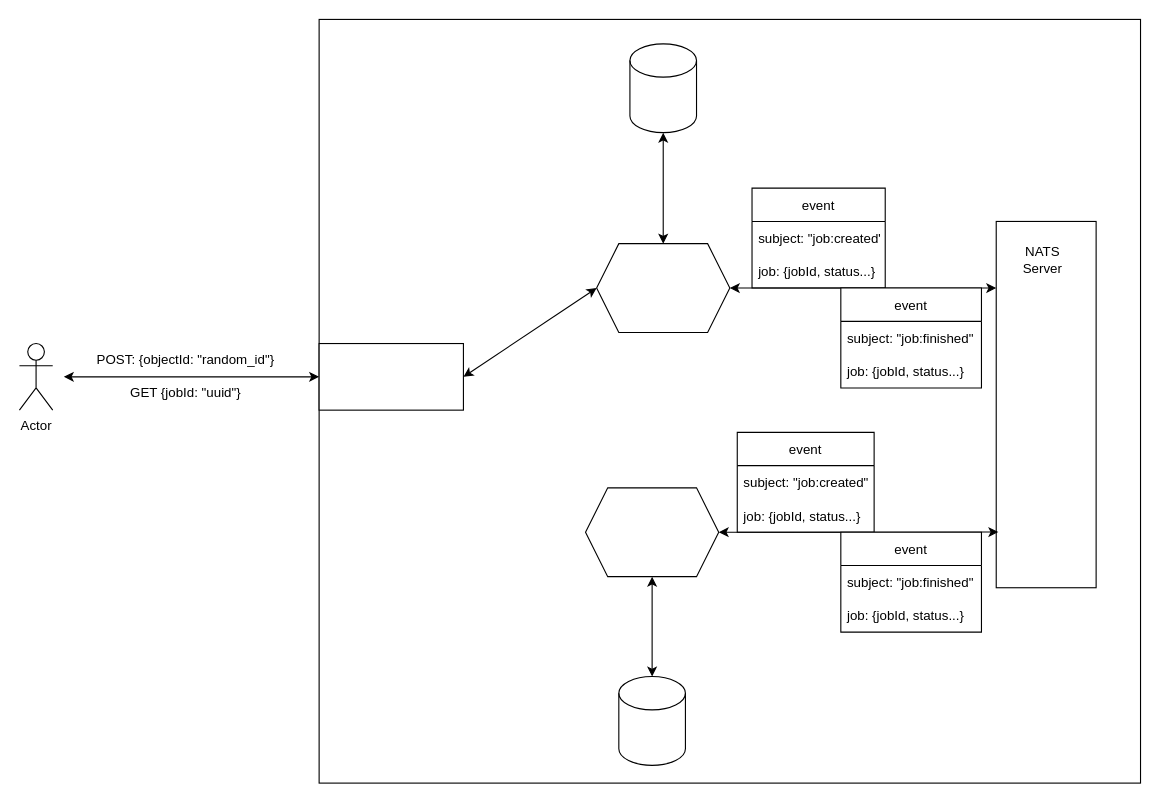
Image size: 1160x803. Some labels were removed from this diagram. The centre of each missing label's shape, as x and y in pixels:
"api-server" belongs at pixel 663 287.
"job-server" belongs at pixel 651 532.
"nginx reverse proxy" belongs at pixel 390 376.
